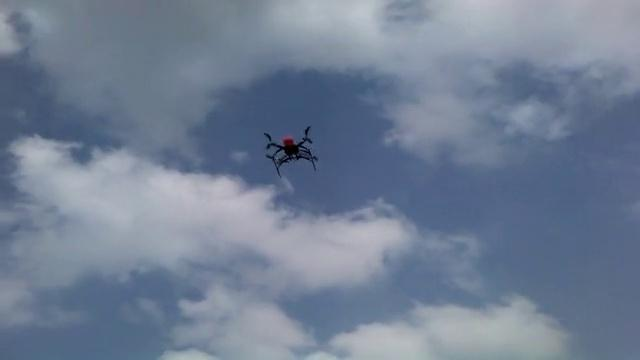drone: (262, 121, 319, 177)
